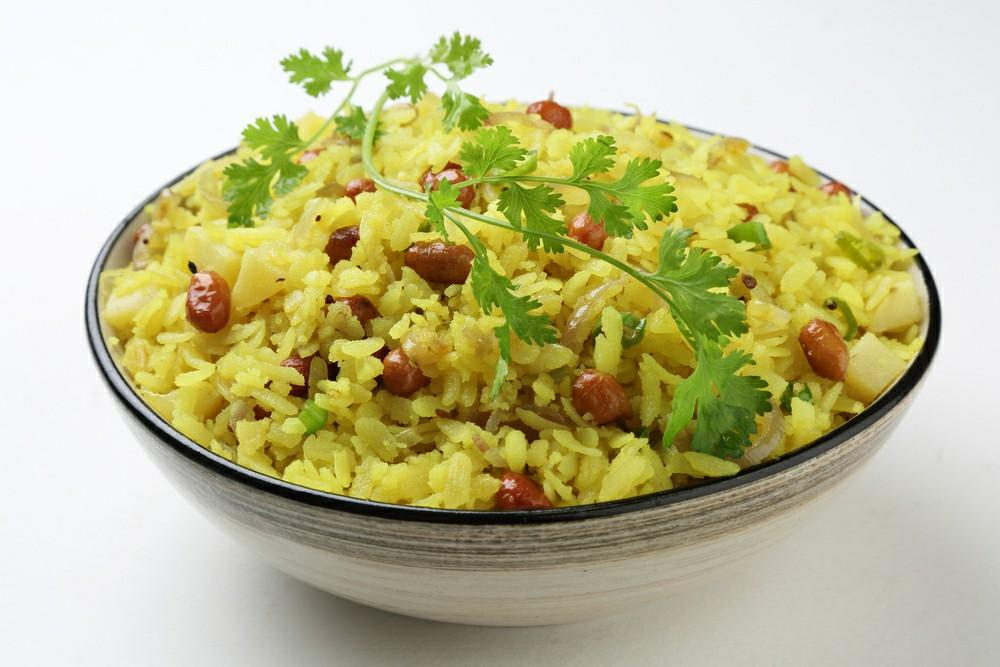Poha: (102, 80, 925, 520)
